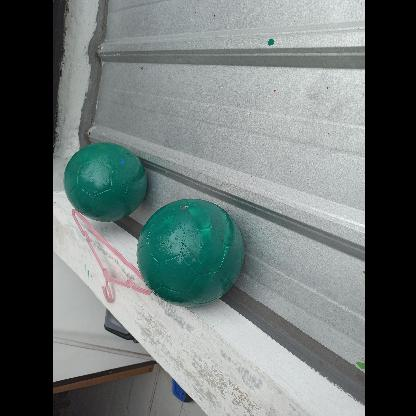green_ball: (136, 196, 244, 306), (60, 140, 144, 223)
